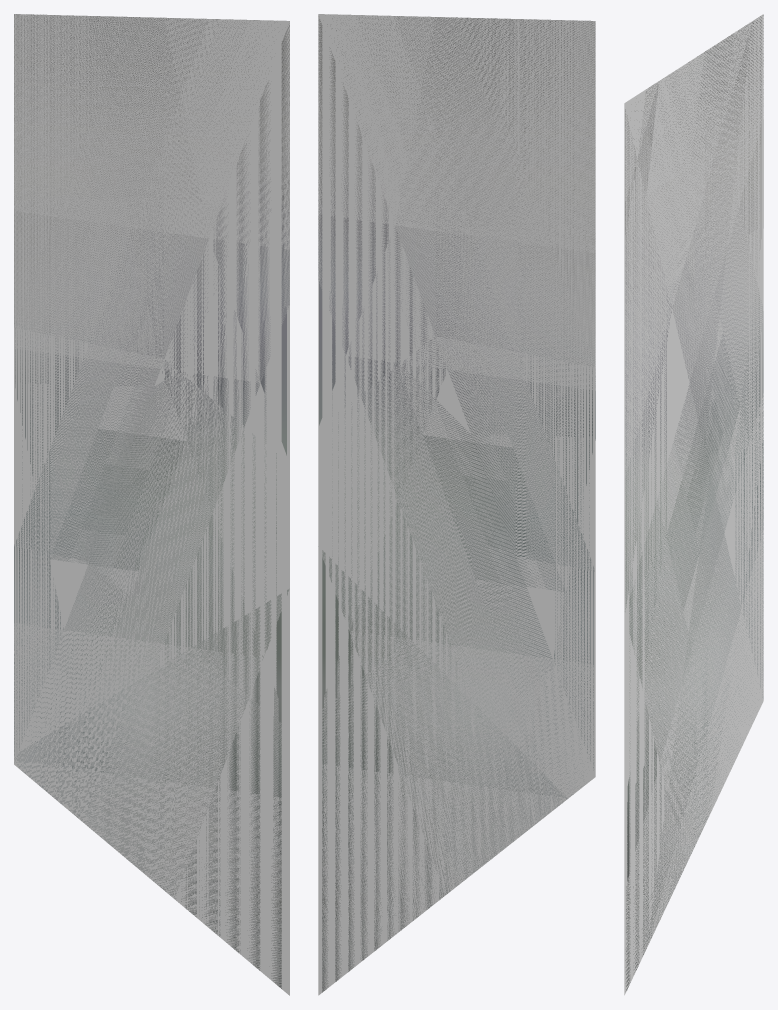
Rendered from 西庸城堡584.dae.
3 views of the same model, side by side, from view 1: azimuth 30°, elevation 25°; view 2: azimuth 210°, elevation 25°; view 3: azimuth 270°, elevation 25° (orthographic). The views are drawn at different scales.
Visible parts, largest first — view 1: SketchUp; view 2: SketchUp; view 3: SketchUp.
Boxes of the visible parts, x1,y1,x2,y2 form: SketchUp: (14,14,289,995); SketchUp: (318,14,595,995); SketchUp: (624,14,763,995).
Size of the model in its own units: 14.13 by 9.32 by 65.94.
